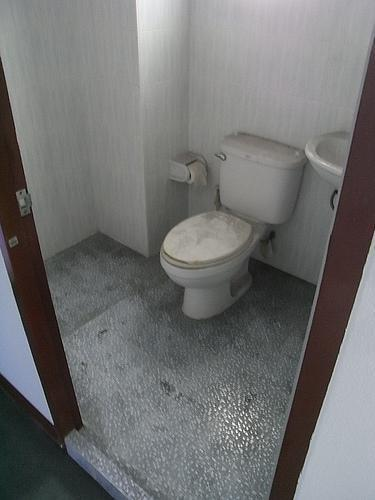Lavamanos: (303, 118, 372, 210)
Sanitario: (160, 131, 305, 338)
